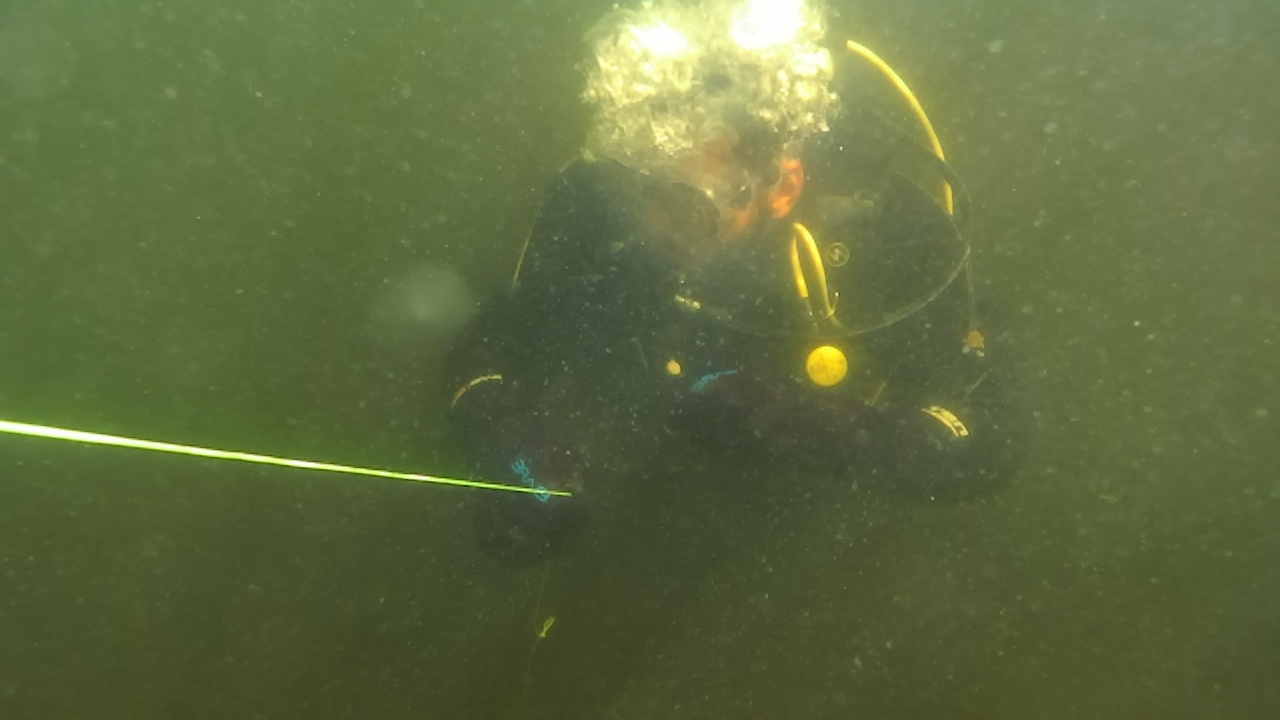Diver: (386, 48, 1068, 652)
